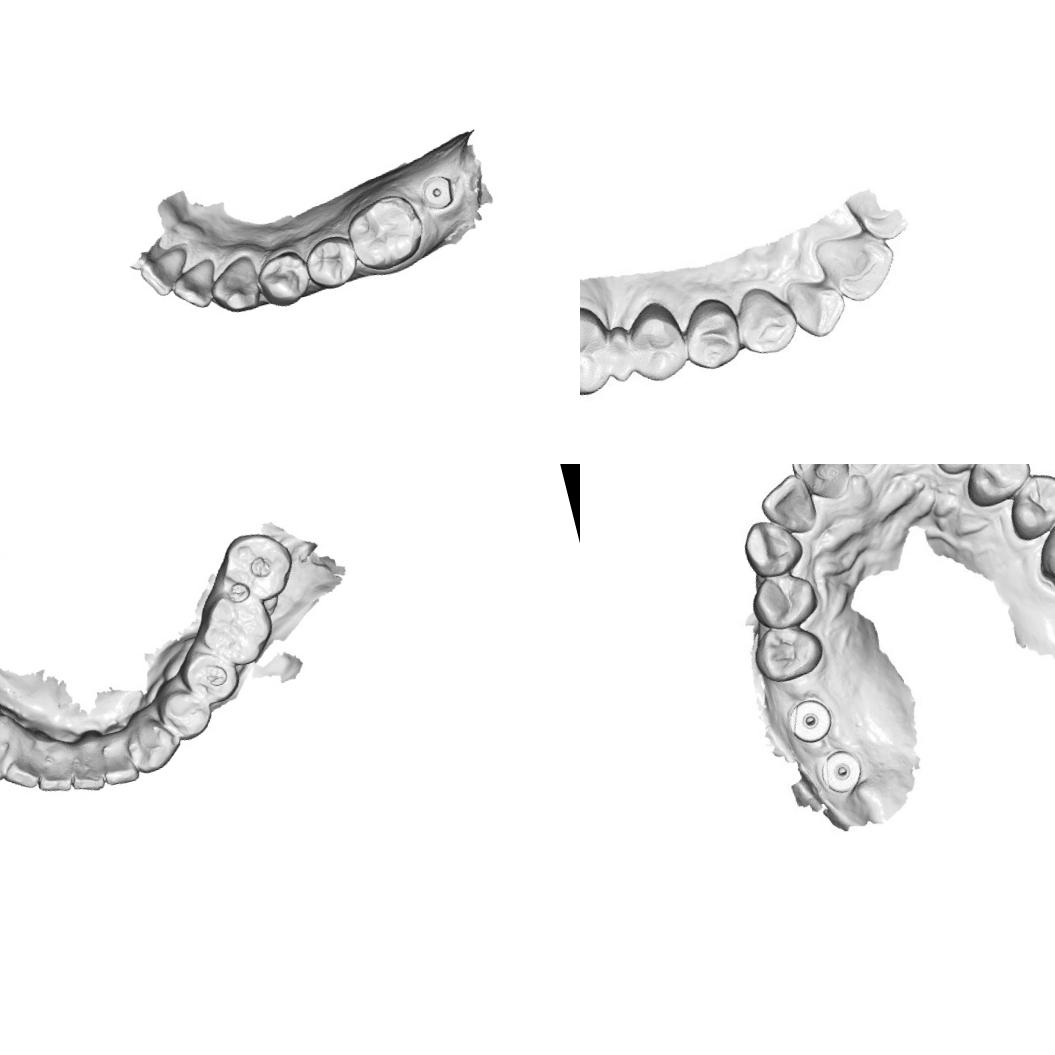canine: (727, 273, 806, 363), (734, 512, 808, 582), (118, 705, 184, 779), (203, 252, 266, 318), (0, 717, 30, 790), (920, 464, 992, 479)
implant: (779, 692, 842, 747), (814, 744, 865, 796), (417, 170, 457, 213)
incisor: (813, 222, 903, 307), (750, 469, 820, 543), (784, 272, 852, 344), (21, 727, 80, 801), (56, 724, 111, 800), (88, 716, 144, 790), (135, 243, 196, 301), (166, 256, 224, 314), (783, 464, 854, 507), (0, 733, 50, 794)
molar: (187, 581, 282, 676), (207, 523, 302, 612), (341, 188, 430, 276), (580, 296, 619, 409), (1025, 490, 1055, 599)
premolar: (672, 286, 751, 379), (615, 296, 691, 388), (740, 564, 824, 638), (748, 618, 829, 688), (148, 671, 218, 747), (173, 641, 245, 713), (999, 465, 1055, 540), (252, 246, 315, 311), (955, 464, 1037, 511), (300, 232, 361, 294)
